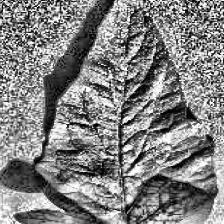spider mites: (18, 0, 216, 224)
